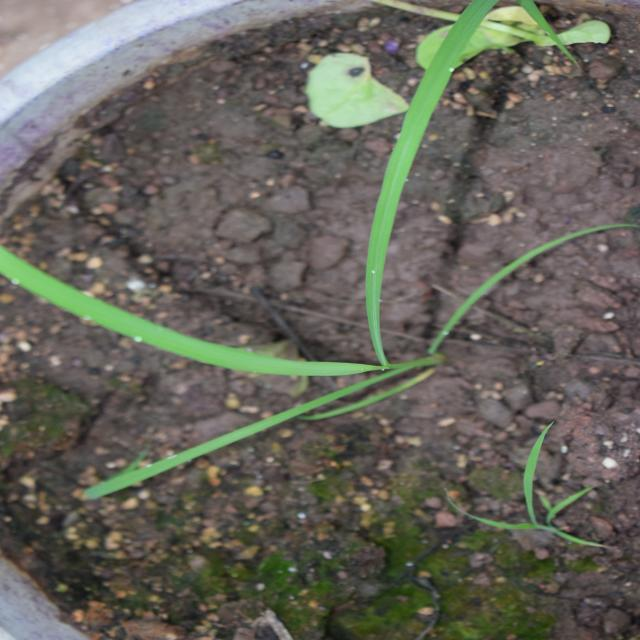barnyard_grass: (131, 57, 611, 519)
